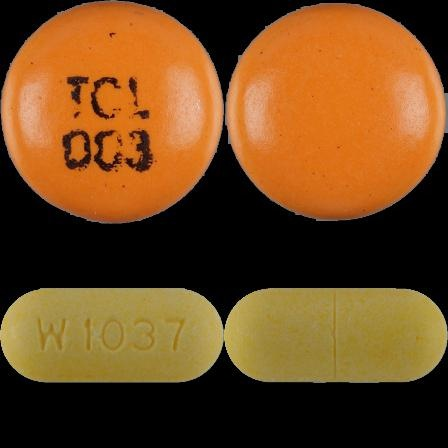0904-7927: (0, 0, 224, 224)
